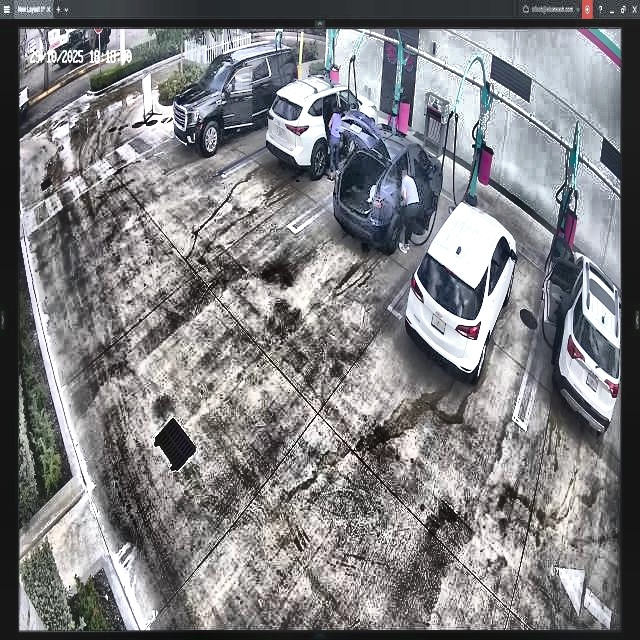Car: (405, 197, 515, 377), (332, 124, 444, 251), (266, 74, 378, 178)
